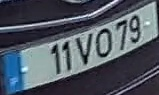1: (49, 43, 61, 76), (61, 40, 72, 72)
7: (114, 18, 128, 51)
9: (127, 14, 142, 44)
O: (94, 27, 112, 59)
V: (72, 32, 93, 66)
